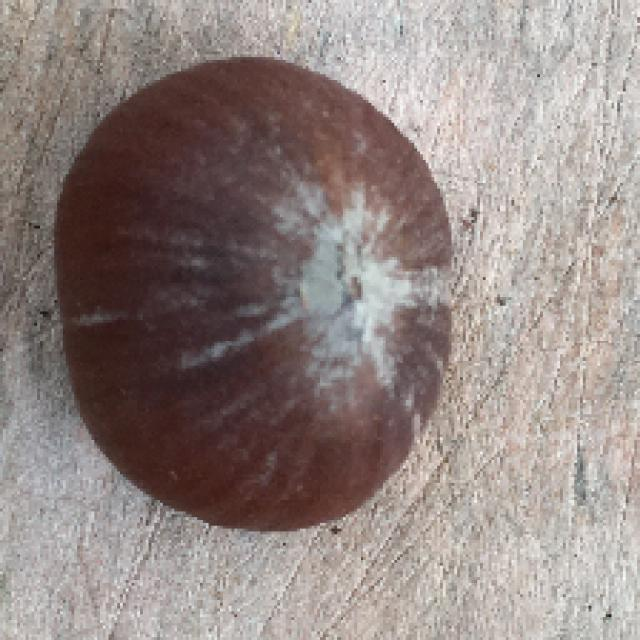qualityHazelnut: (44, 53, 458, 545)
